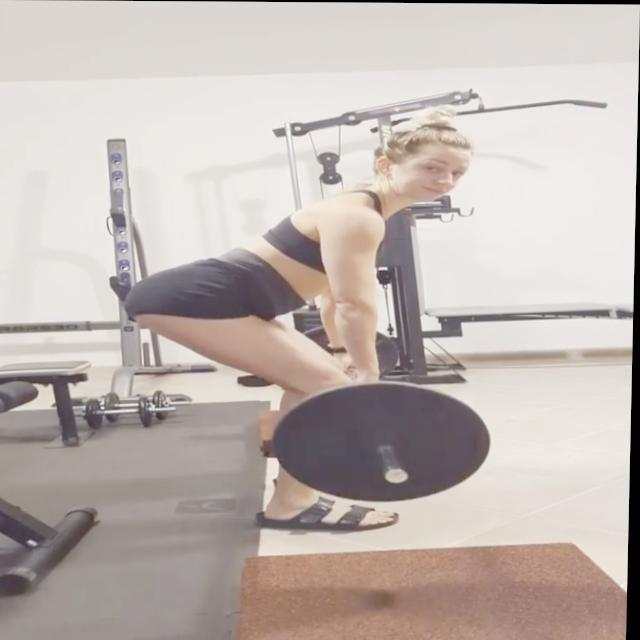barbell: (264, 377, 501, 506)
